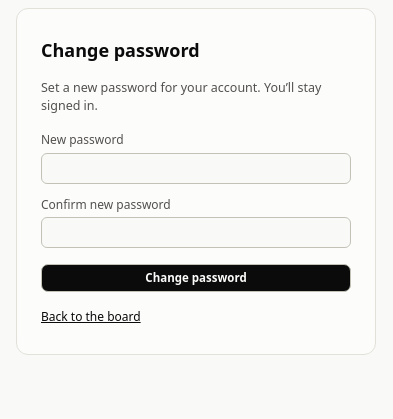
it: the change screen changes the password and stays put › C3: a provider error is shown as a sentence, not a raw string
Type "newpassword" into the password field labelled "New password".
click(196, 168); type("newpassword")  # box [41,153,351,184]
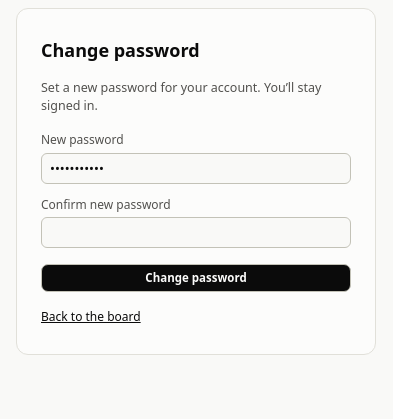
Type "newpassword" into the password field labelled "Confirm new password".
click(196, 232); type("newpassword")  # box [41,217,351,248]
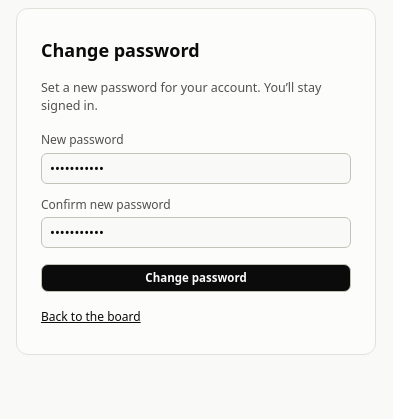
Click the button "Change password".
click(196, 278)  # box [41,264,351,292]
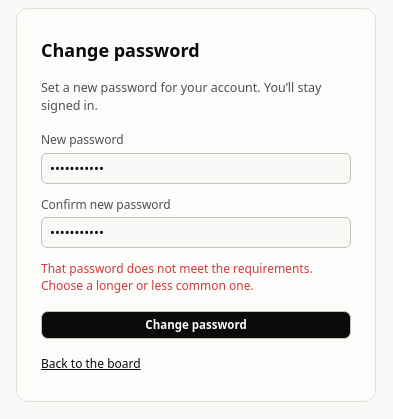
Expected: the text "does not meet the requirements" is shown, [41,260,313,294]
